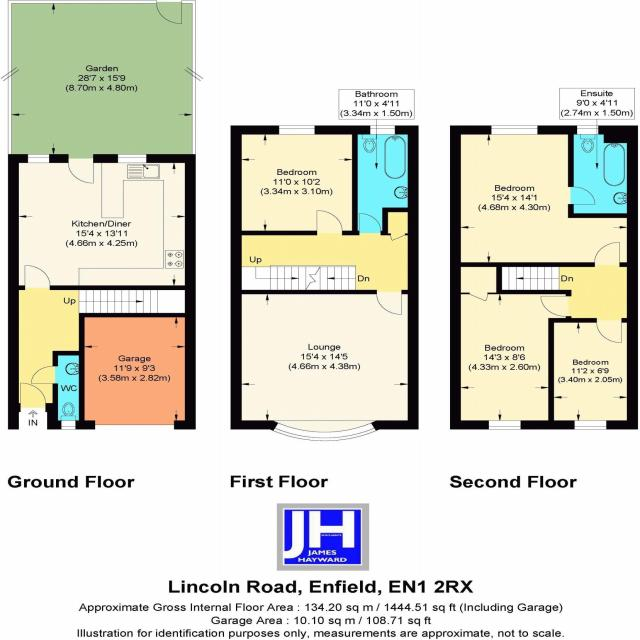DOOR: (68, 154, 95, 184), (19, 382, 46, 412), (593, 241, 621, 267), (540, 295, 572, 317), (316, 210, 343, 236), (24, 264, 51, 290), (596, 318, 623, 343), (358, 212, 382, 235), (568, 186, 596, 205)
ROOM: (231, 290, 419, 448), (450, 125, 638, 267), (7, 154, 196, 291), (449, 262, 572, 430), (230, 125, 358, 236), (548, 318, 638, 430)
WINDOW: (267, 420, 382, 444), (372, 290, 404, 316), (491, 125, 538, 135), (278, 125, 316, 135), (487, 420, 522, 430), (574, 420, 608, 430), (369, 125, 396, 135), (117, 154, 147, 163), (576, 125, 599, 135), (27, 154, 50, 163), (61, 420, 76, 430)
